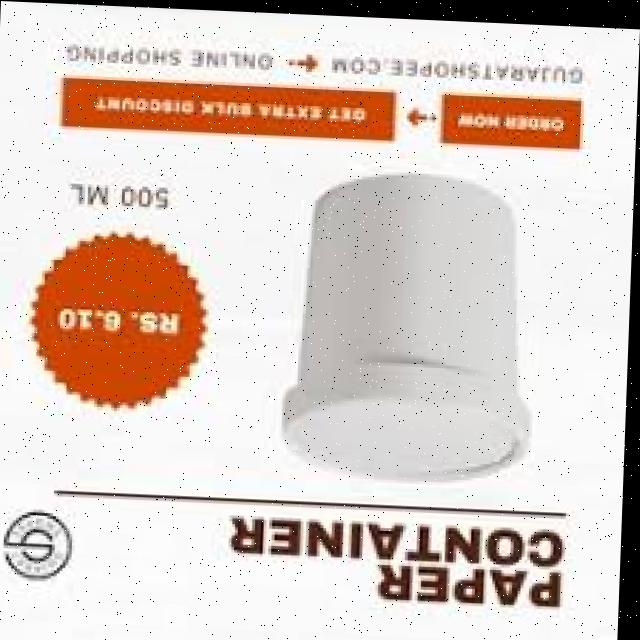disposable: (254, 153, 546, 491)
